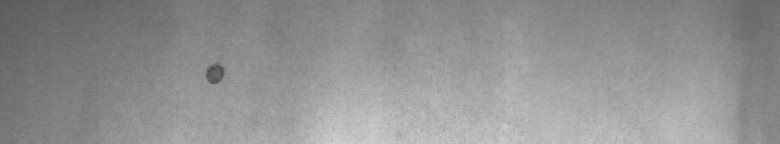fi: (200, 57, 228, 92)
